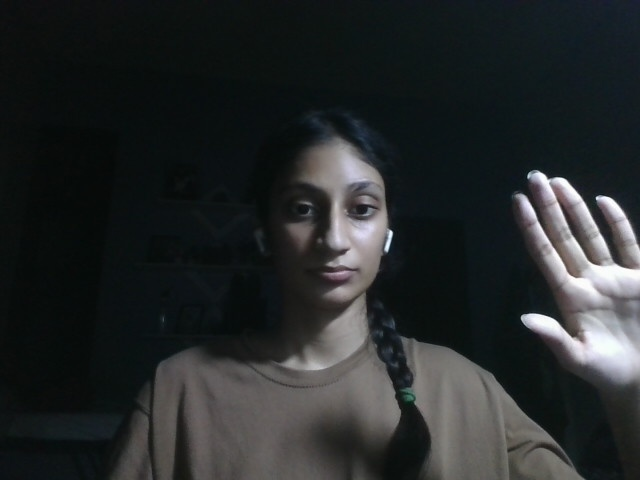hello: (507, 169, 640, 387)
